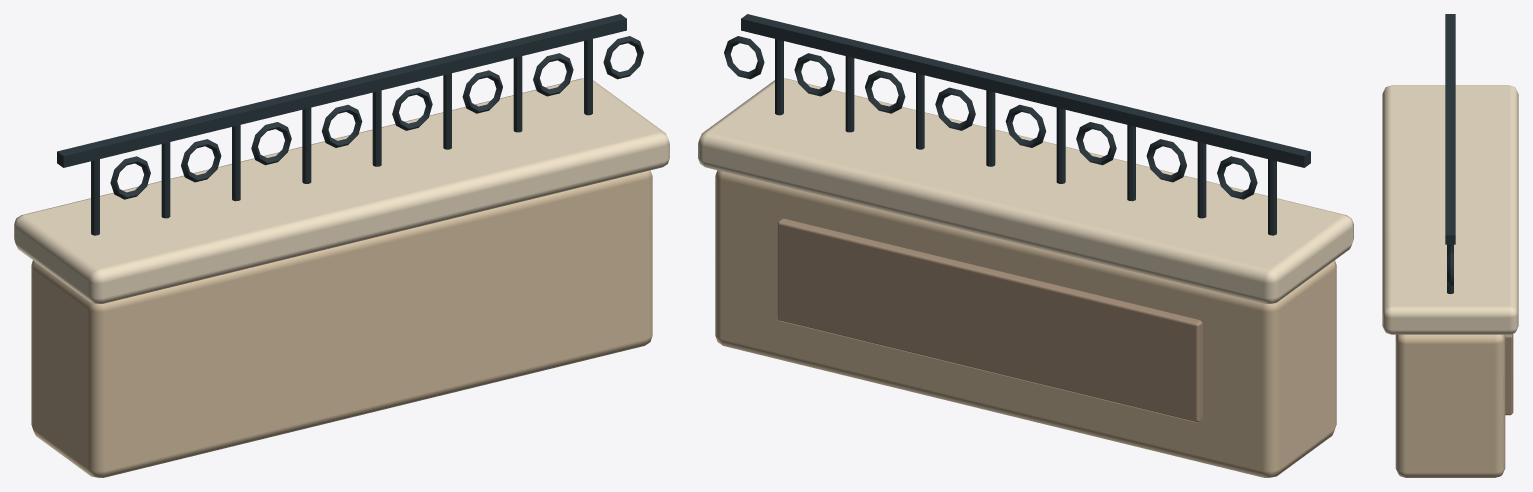
The model's file is rt_parapet.glb.
The picture shows the model from 3 angles, left to right: view 1: azimuth 30°, elevation 25°; view 2: azimuth 150°, elevation 25°; view 3: azimuth 270°, elevation 25°; orthographic projection. The views are drawn at different scales.
Parts seen in each view (by area): view 1: rt_parapet_body; view 2: rt_parapet_body; view 3: rt_parapet_body.
Part boxes in pixels (<box>): rt_parapet_body: <box>14,14,669,477</box>; rt_parapet_body: <box>698,14,1353,477</box>; rt_parapet_body: <box>1382,14,1518,477</box>.
Size of the model in its own units: 2.1 by 1.04 by 0.52.
